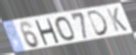6: (19, 20, 40, 49)
7: (70, 12, 89, 41)
D: (86, 9, 110, 38)
H: (33, 18, 60, 46)
K: (105, 6, 129, 33)
O: (54, 15, 77, 42)
